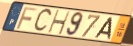7: (80, 14, 102, 38)
9: (65, 11, 85, 38)
A: (94, 17, 113, 41)
C: (32, 7, 54, 34)
F: (15, 6, 39, 30)
H: (47, 9, 71, 37)
